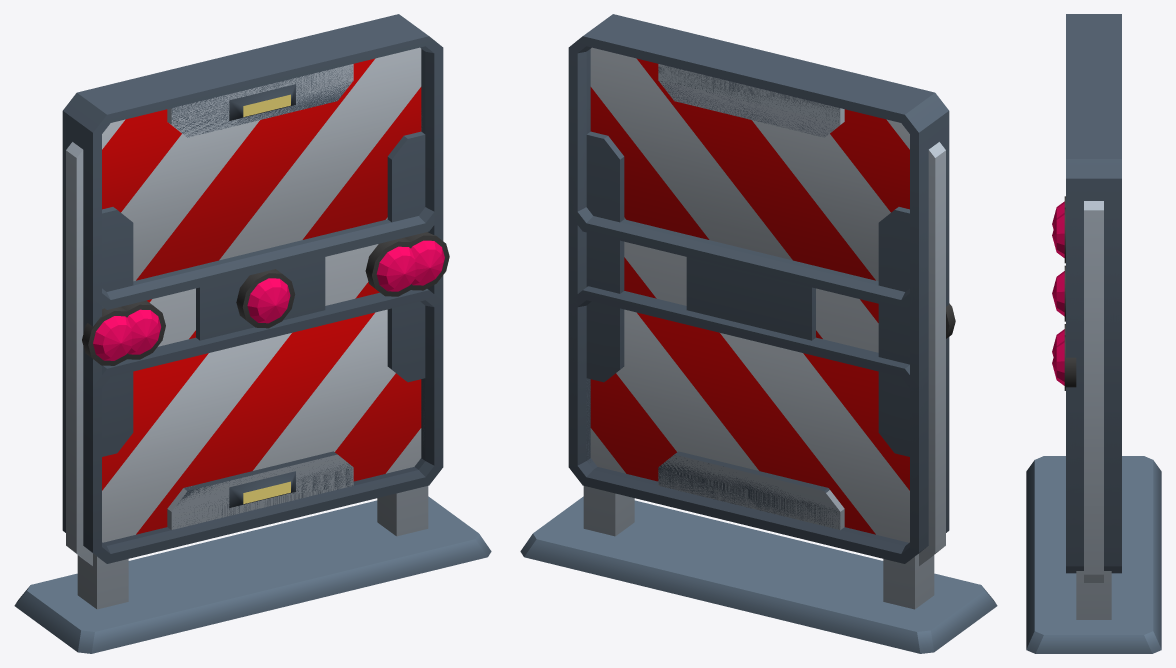
Rendered from Pared_Completa.FBX.
3 renders of one model, left to right at view 1: azimuth 30°, elevation 25°; view 2: azimuth 150°, elevation 25°; view 3: azimuth 270°, elevation 25°, orthographic. The views are drawn at different scales.
Visible parts, largest first — view 1: Pared_Completa_01, Pared_Completa_02; view 2: Pared_Completa_01, Pared_Completa_02; view 3: Pared_Completa_02, Pared_Completa_01.
Boxes of the visible parts, x1,y1,x2,y2 form: Pared_Completa_01: [14, 14, 487, 653]; Pared_Completa_02: [18, 46, 491, 653]; Pared_Completa_01: [524, 14, 997, 653]; Pared_Completa_02: [520, 36, 993, 638]; Pared_Completa_02: [1026, 179, 1161, 653]; Pared_Completa_01: [1026, 14, 1161, 619].
Size of what is drawn, in the model's own units: 260 by 80 by 309.
